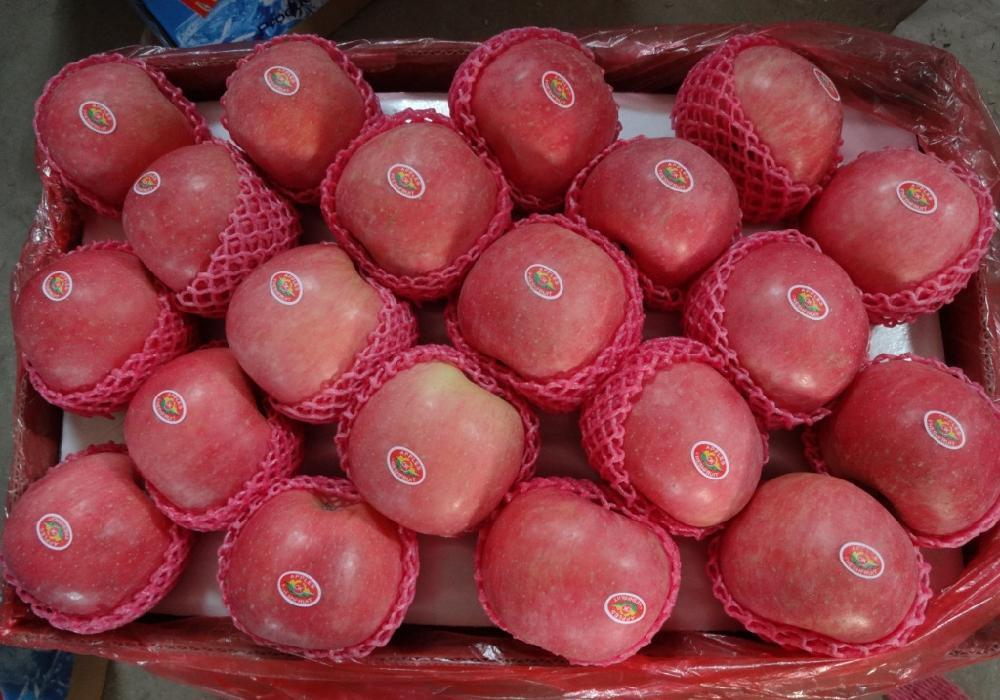apple: (711, 470, 920, 647), (119, 344, 301, 526), (821, 356, 1000, 536), (352, 360, 523, 538), (490, 490, 669, 659), (7, 447, 165, 617), (234, 490, 403, 645), (811, 151, 977, 294), (723, 242, 866, 406), (622, 360, 763, 525), (462, 224, 619, 366), (584, 139, 741, 281), (342, 124, 487, 270), (230, 246, 375, 392), (228, 39, 368, 189), (478, 38, 618, 188), (49, 60, 180, 197), (121, 146, 246, 284), (21, 247, 153, 377), (729, 47, 844, 172)
